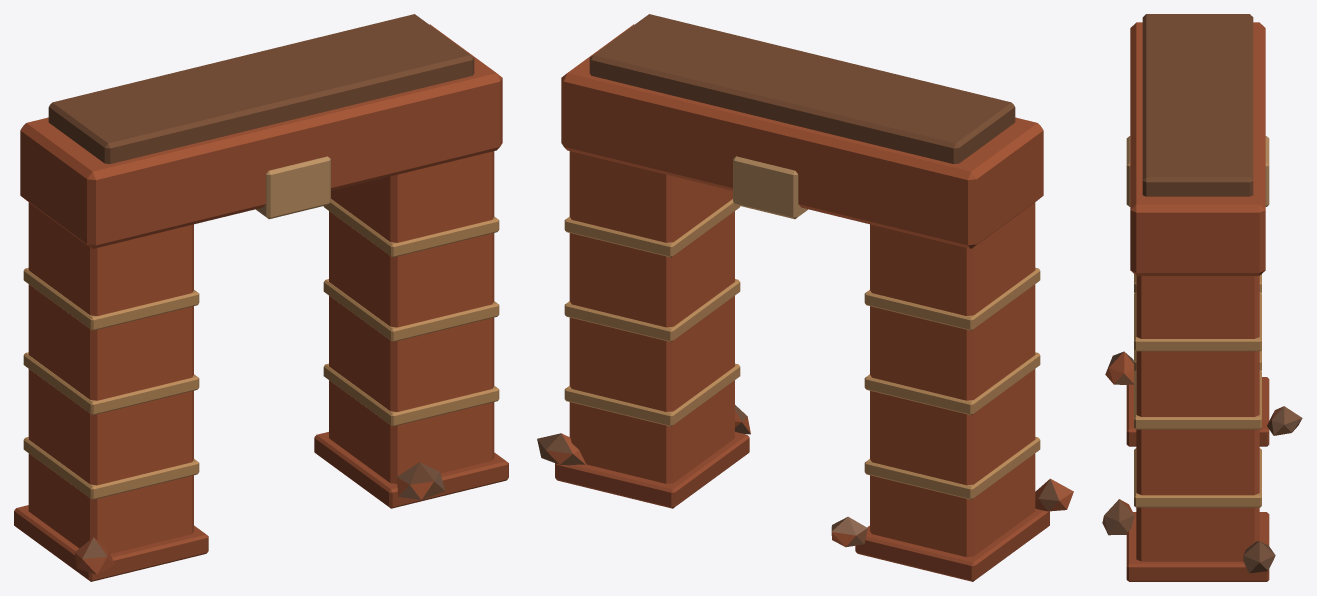
Rendered from MesaArch.glb.
3 views of the same model, side by side, from view 1: azimuth 30°, elevation 25°; view 2: azimuth 150°, elevation 25°; view 3: azimuth 270°, elevation 25° (orthographic). The views are drawn at different scales.
Visible parts, largest first — view 1: Body; view 2: Body; view 3: Body.
Boxes of the visible parts, x1,y1,x2,y2 form: Body: [14, 14, 508, 581]; Body: [537, 14, 1073, 581]; Body: [1102, 14, 1302, 581].
Size of what is drawn, in the model's own units: 19.82 by 17.6 by 8.13.
